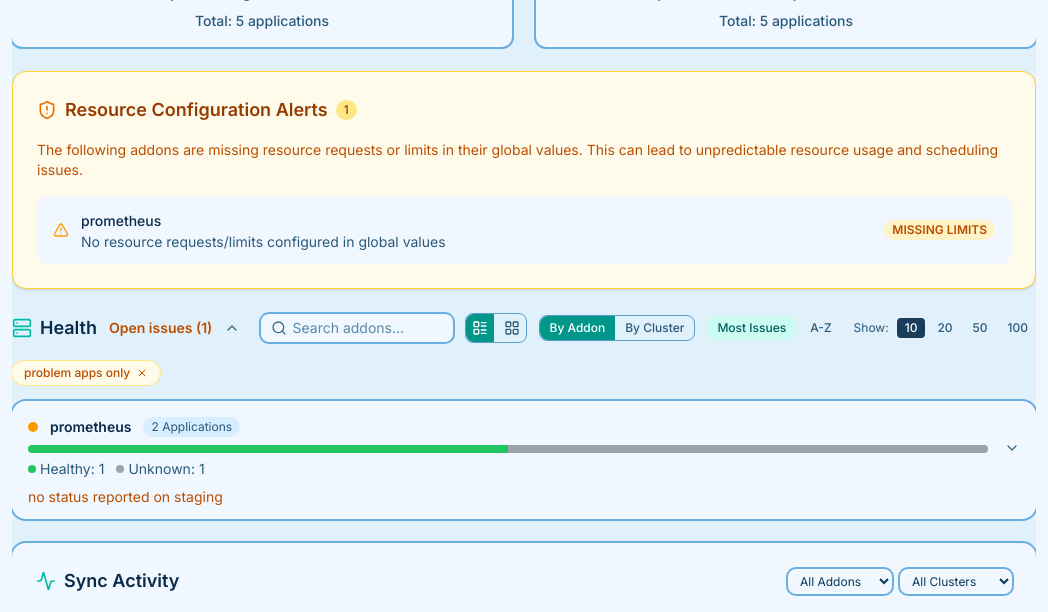
Test: Observability — ?health=issues filter (S5, scale-walk) › dismissing the chip clears the filter and restores the full addon-groups list
The image size is (1048, 612).
(page scrolled)
Click the button named "clear the problem-apps filter": (142, 373) [136,367,148,379]
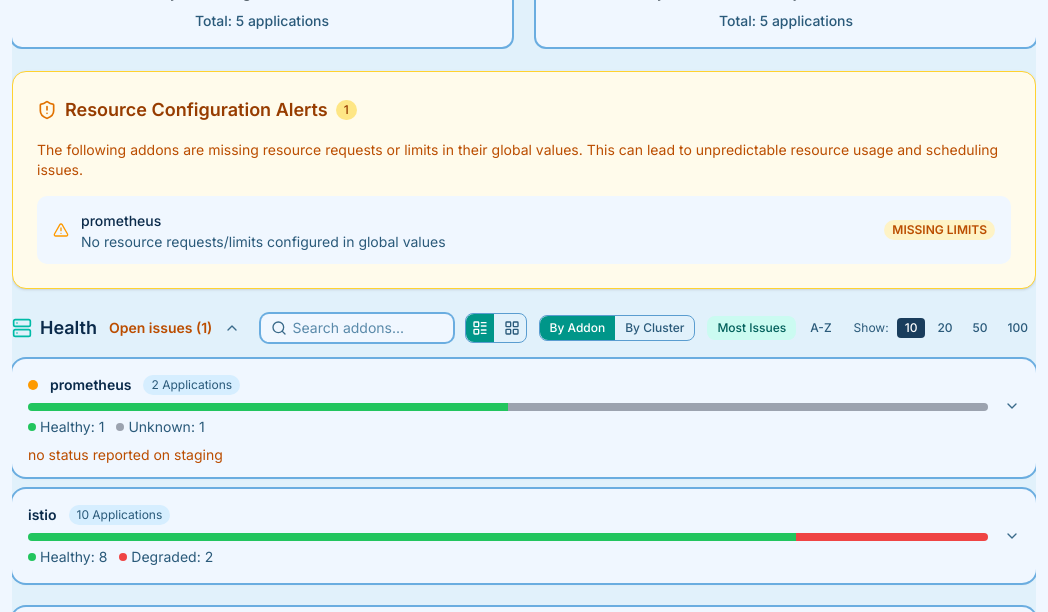
Expected: the 2nd text "prometheus" is shown, [50,375,132,395]
Expected: the element with test id "health-issues-chip" is gone
Expected: the text "istio" is shown, [28,505,56,525]
